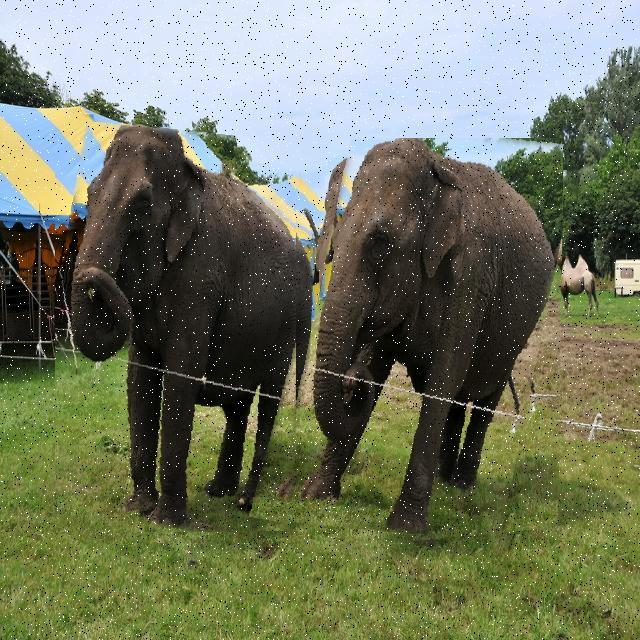elephant: (296, 138, 564, 553), (55, 127, 320, 533)
